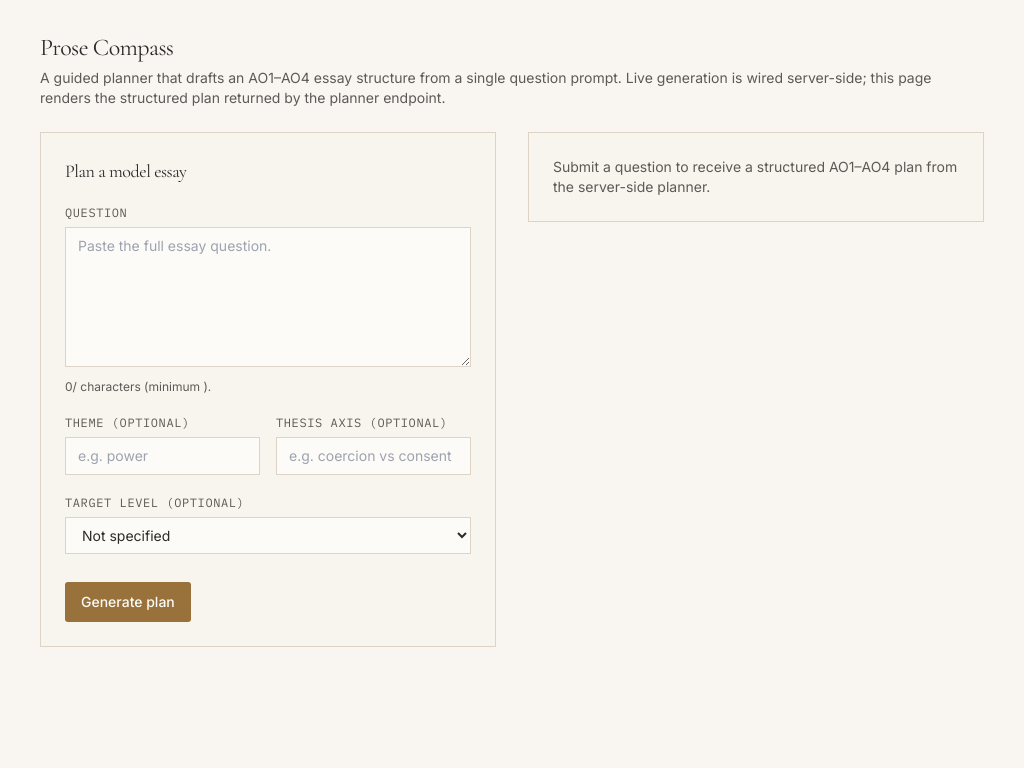
it: ProseCompass › disables submit when the question is below the minimum length
Type "short" into the text box labelled "Question" at [268, 297], box x1=65 y1=227 x2=471 y2=367
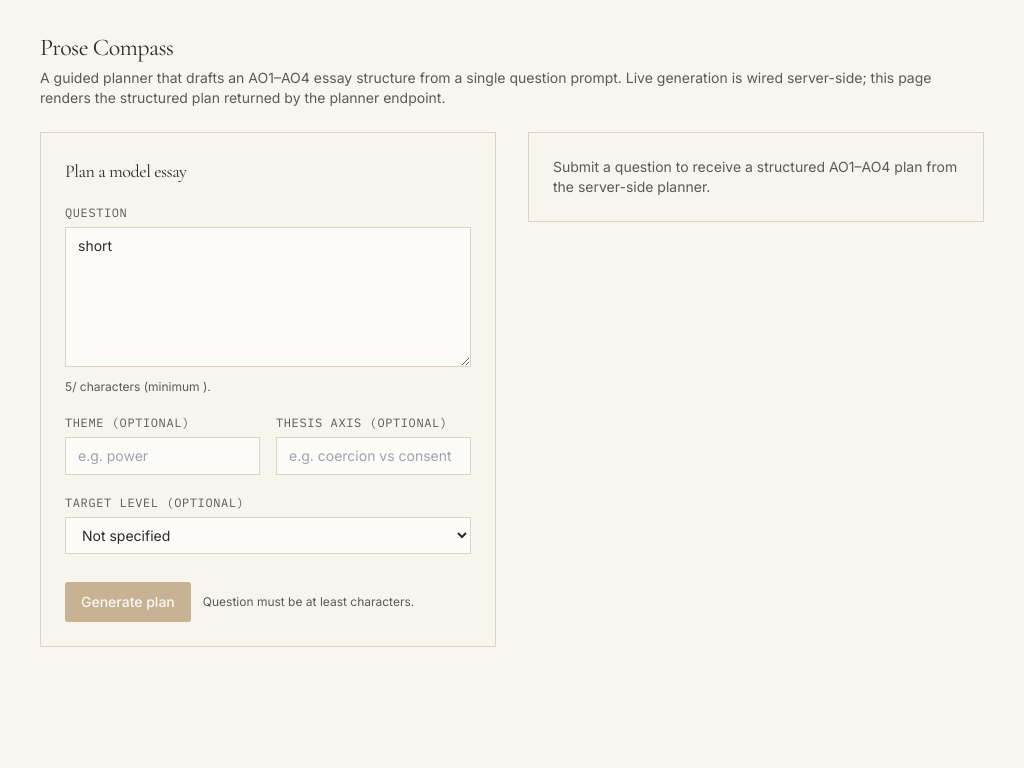
Expected: the button "Generate plan" is disabled, x1=65 y1=582 x2=191 y2=622
